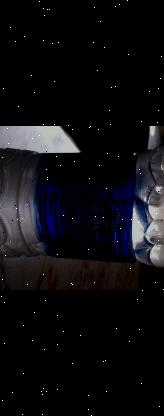Plastic Bottle: (0, 133, 164, 286)
